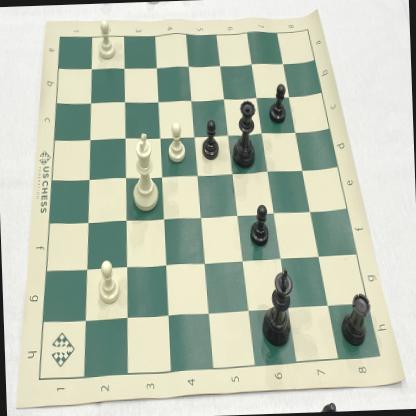black-king: (258, 264, 297, 352)
black-pawn: (244, 198, 272, 252), (264, 79, 290, 128), (198, 118, 222, 165)
black-queen: (227, 96, 259, 174)
black-rook: (336, 288, 373, 350)
white-king: (126, 131, 163, 214)
white-pawn: (93, 256, 122, 306), (162, 118, 188, 166), (92, 17, 119, 63)
